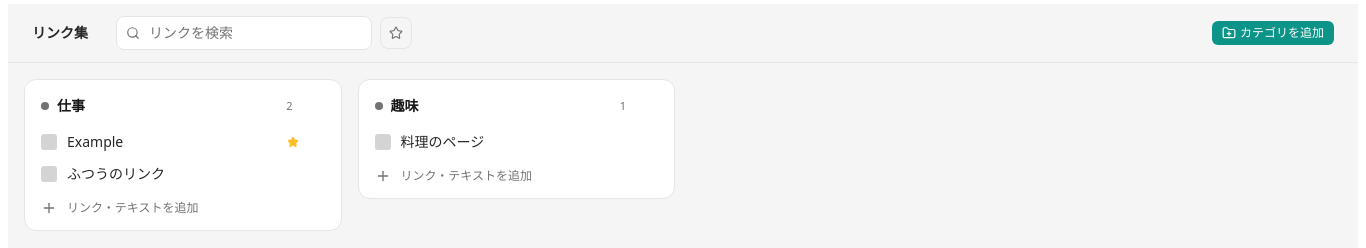
Test case: お気に入りだけ表示 › 星のボタンを押すと、お気に入りのリンクと、そのカードだけが残る。もう一度押すと元にもどる
The width and height of the screenshot is (1366, 248).
Check: the text "ふつうのリンク" is shown, box [67,164,165,184]
Click the button named "お気に入りだけ表示": (396, 33) [380,17,412,49]
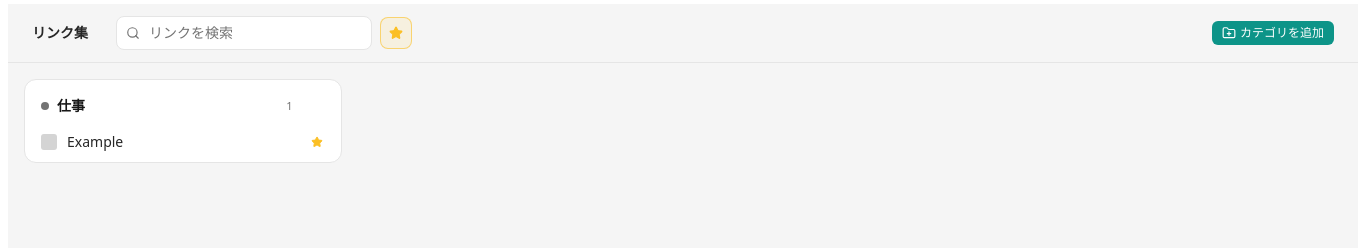
Check: the link "ふつうのリンク" is gone
Check: the heading "趣味" is gone
Check: the button "リンク・テキストを追加" is gone
Click the button named "お気に入りだけ表示": (396, 33) [380,17,412,49]
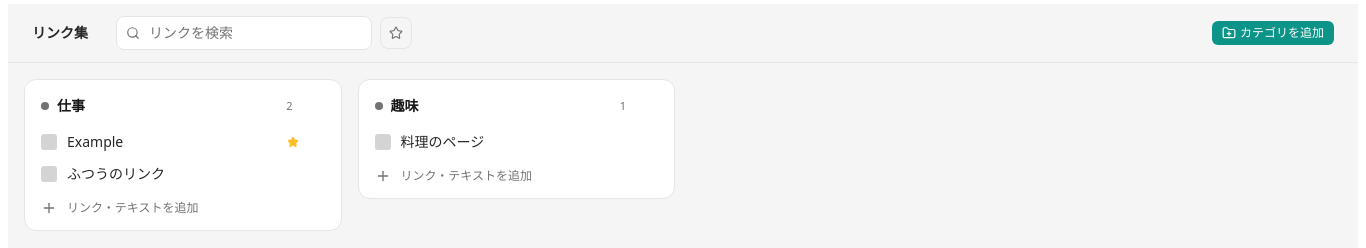
Check: the text "ふつうのリンク" is shown, box [67,164,165,184]
Check: the element "趣味" is shown, box [358,79,675,199]
